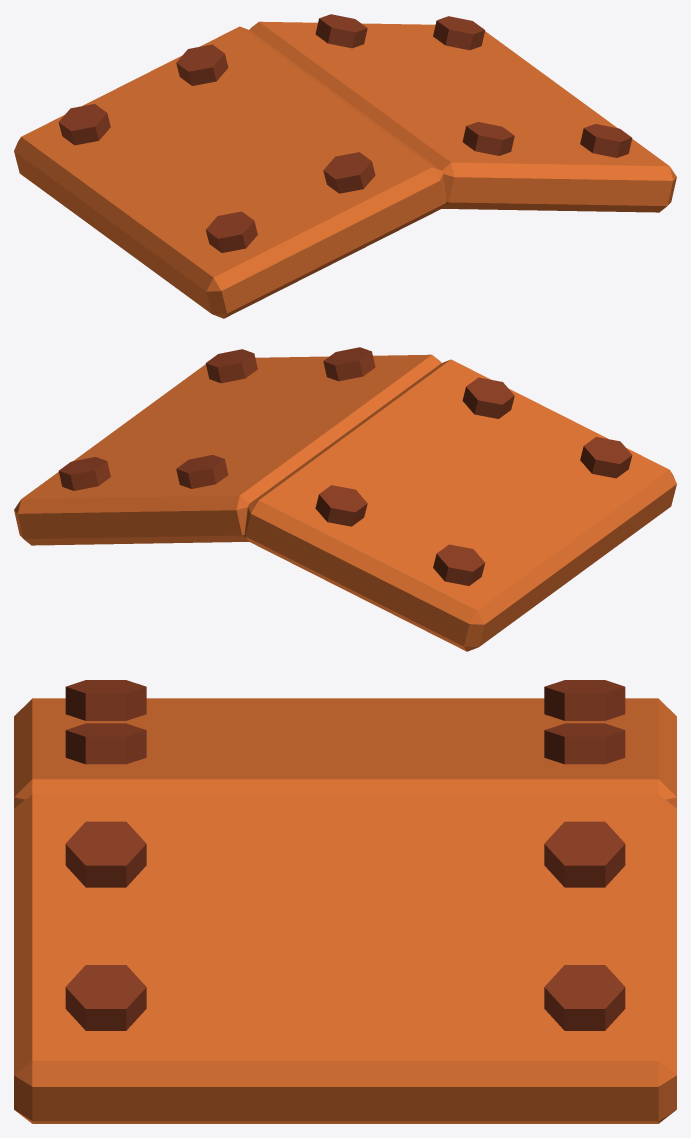
The model's file is item_plate_rusty.fbx.
3 renders of one model, top to bottom at view 1: azimuth 30°, elevation 25°; view 2: azimuth 150°, elevation 25°; view 3: azimuth 270°, elevation 25°, orthographic. The views are drawn at different scales.
Parts seen in each view (by area): view 1: item_plate_rusty; view 2: item_plate_rusty; view 3: item_plate_rusty.
Boxes of the visible parts, x1,y1,x2,y2 form: item_plate_rusty: (14, 14, 676, 318); item_plate_rusty: (14, 347, 676, 651); item_plate_rusty: (14, 680, 676, 1123).
Size of the model in its own units: 2.4 by 0.5144 by 1.8.
